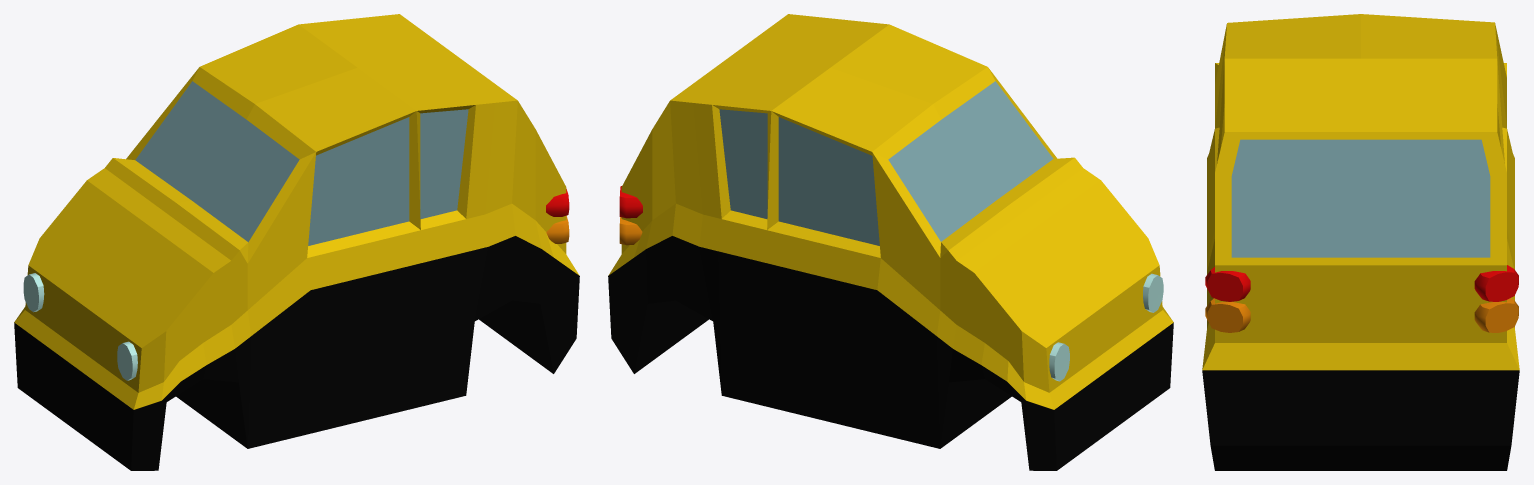
File: Coupe.fbx
3 views of the same model, side by side, from view 1: azimuth 30°, elevation 25°; view 2: azimuth 150°, elevation 25°; view 3: azimuth 270°, elevation 25° (orthographic). The views are drawn at different scales.
Parts seen in each view (by area): view 1: pCube8; view 2: pCube8; view 3: pCube8.
Part boxes in pixels (x1,y1,x2,y2): pCube8: (14, 14, 579, 470); pCube8: (608, 14, 1173, 470); pCube8: (1202, 14, 1519, 470).
Bounding box in the file's own units: 3.8 × 2.42 × 2.06.
